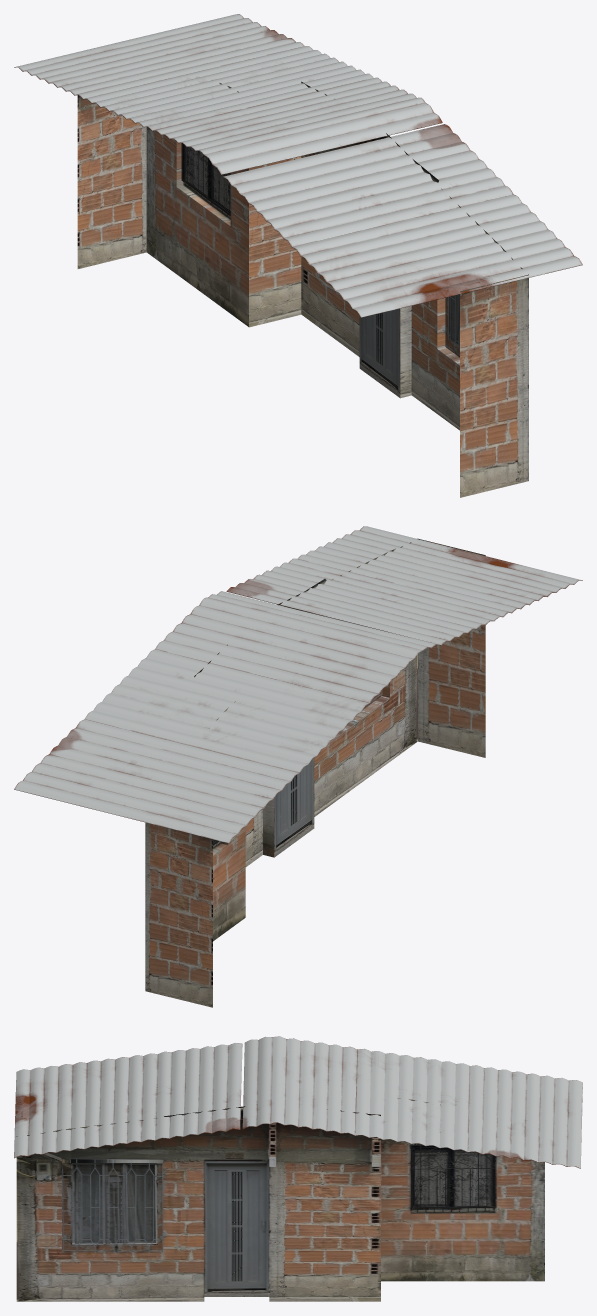
The model's file is casaplano02.fbx.
The picture shows the model from 3 angles, top to bottom: view 1: azimuth 30°, elevation 25°; view 2: azimuth 150°, elevation 25°; view 3: azimuth 270°, elevation 25°; orthographic projection. The views are drawn at different scales.
Parts seen in each view (by area): view 1: Techo 02, CasaPlano02; view 2: Techo 02, CasaPlano02; view 3: CasaPlano02, Techo 02.
Boxes of the visible parts, x1,y1,x2,y2 form: Techo 02: [14, 14, 582, 317]; CasaPlano02: [77, 81, 528, 497]; Techo 02: [14, 526, 582, 843]; CasaPlano02: [145, 538, 485, 1007]; CasaPlano02: [16, 1098, 544, 1301]; Techo 02: [14, 1036, 582, 1168].
Bounding box in the file's own units: 388 × 409 × 1051.
